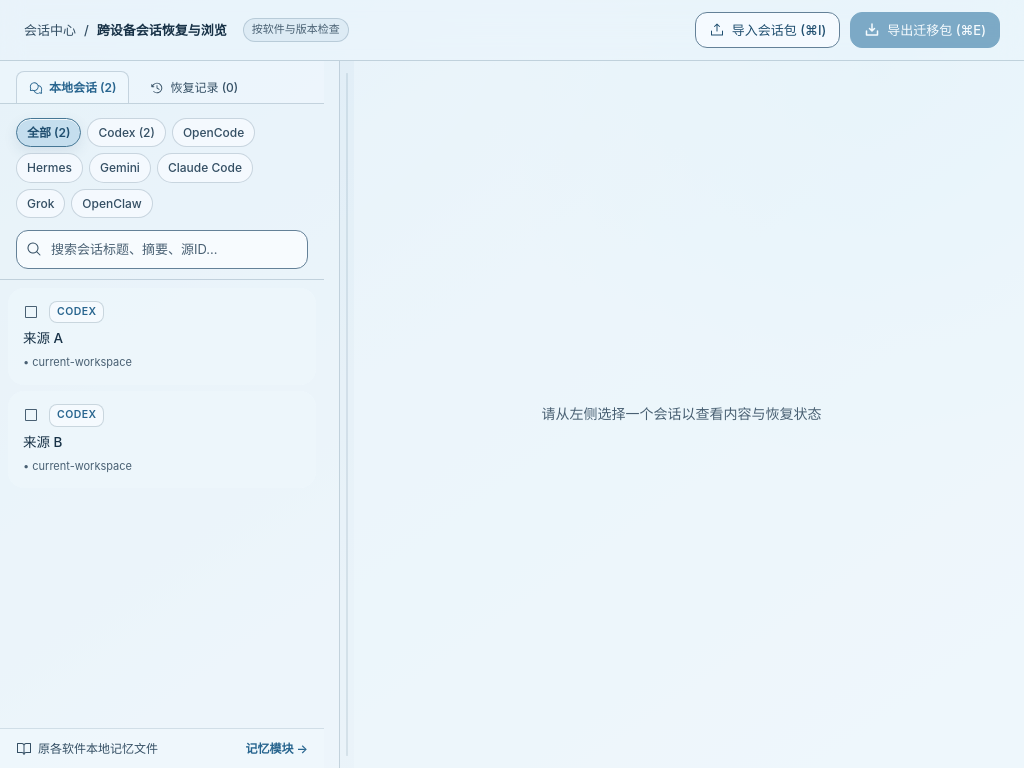
Test case: session migration page batch export behavior › shows a probe failure as unknown instead of claiming not installed
Click the text "来源 A": {"x": 43, "y": 338} [23, 330, 63, 346]
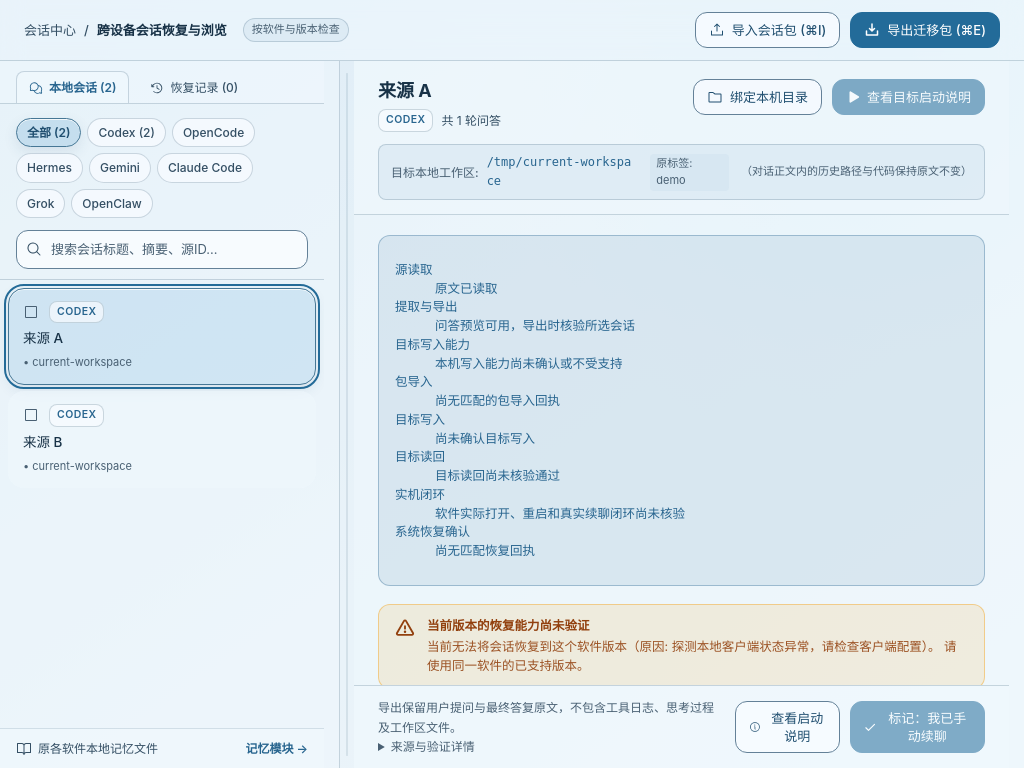
Now the text "当前无法将会话恢复到这个软件版本（原因: 探测本地客户端状态异常，请检查客户端配置）。 请使用同一软件的已支持版本。" is shown, box [427, 638, 968, 676]
Now the button "查看目标启动说明" is disabled, box [832, 79, 985, 115]
